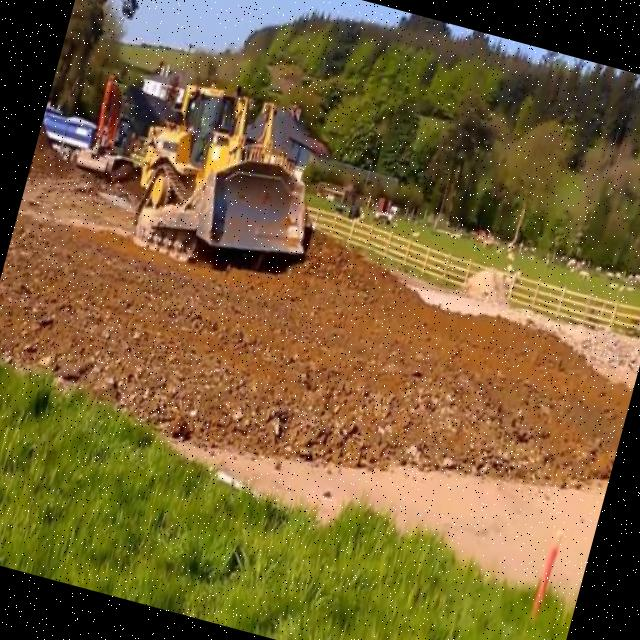Excavator: (74, 75, 152, 182)
